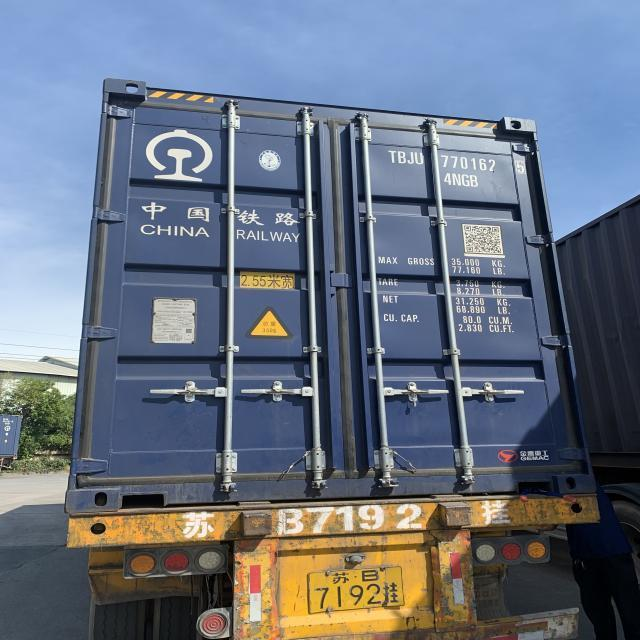ISO: (442, 173, 480, 190)
container_number: (390, 150, 522, 172)
